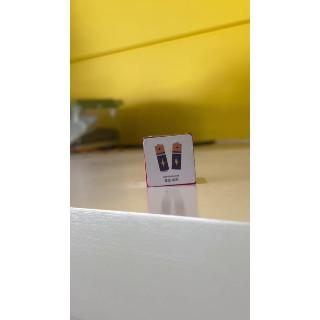Used_Battery: (145, 137, 197, 186)
